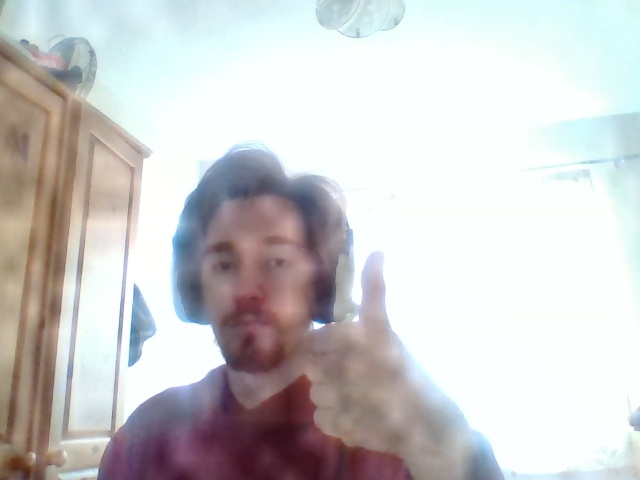good: (302, 251, 433, 448)
